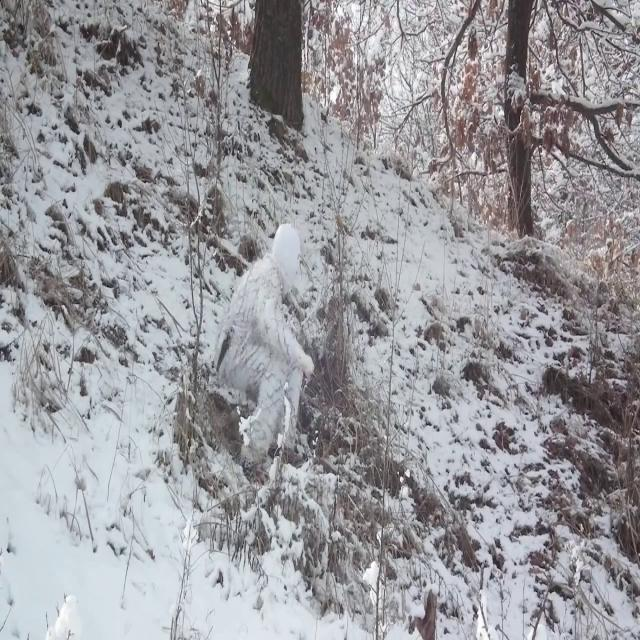human: (216, 224, 314, 463)
